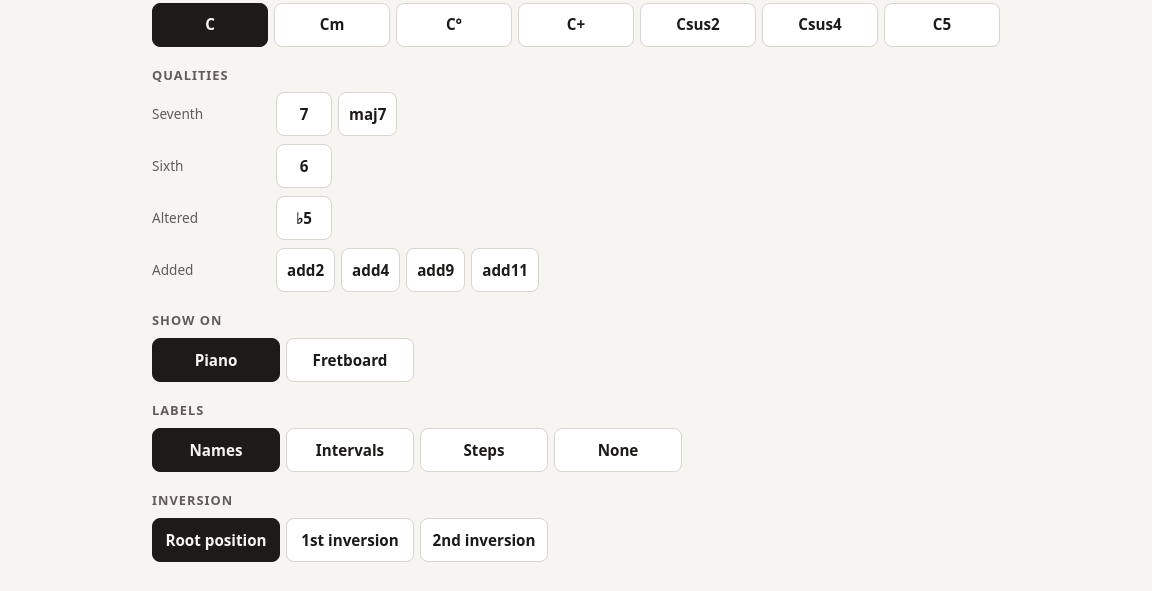
Scenario: App › stays in the same area of the neck when the chord changes
(page scrolled)
Click the radio button labelled "Fretboard" at (350, 360), box [286,338,414,382]
(page scrolled)
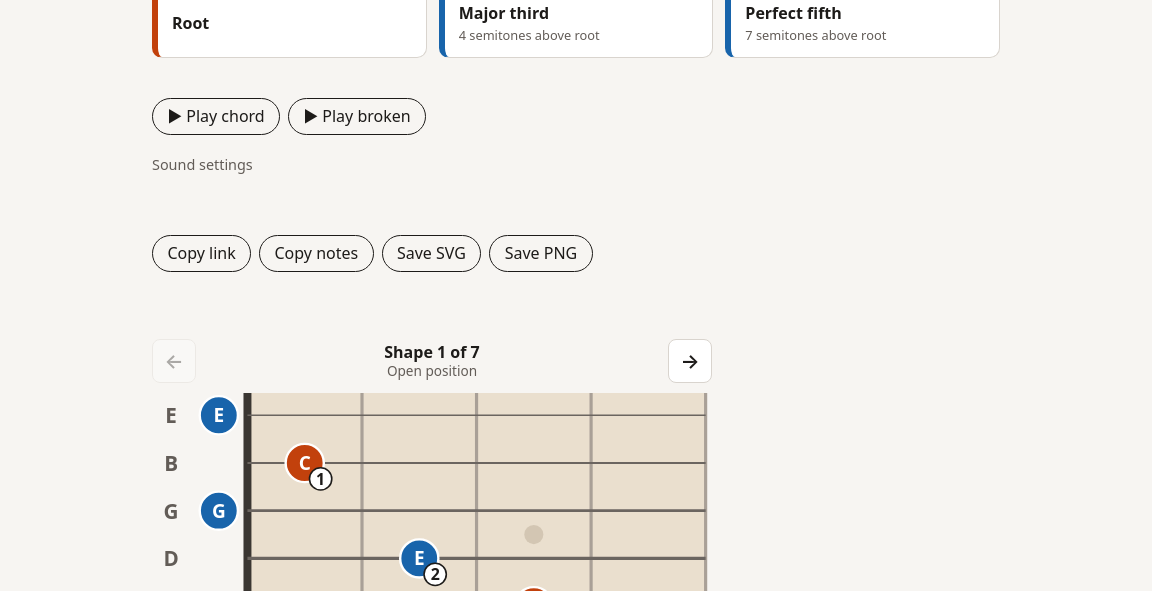
Click the button named "Next shape" at (690, 361), box [668,339,712,383]
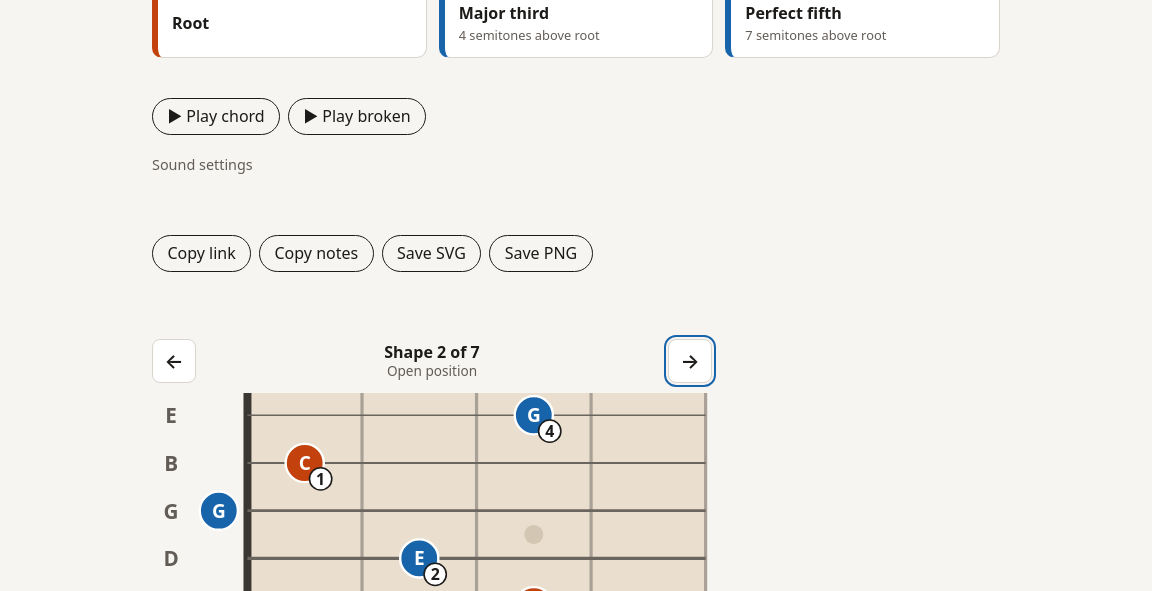
Click the button named "Next shape" at (690, 361), box [668,339,712,383]
(page scrolled)
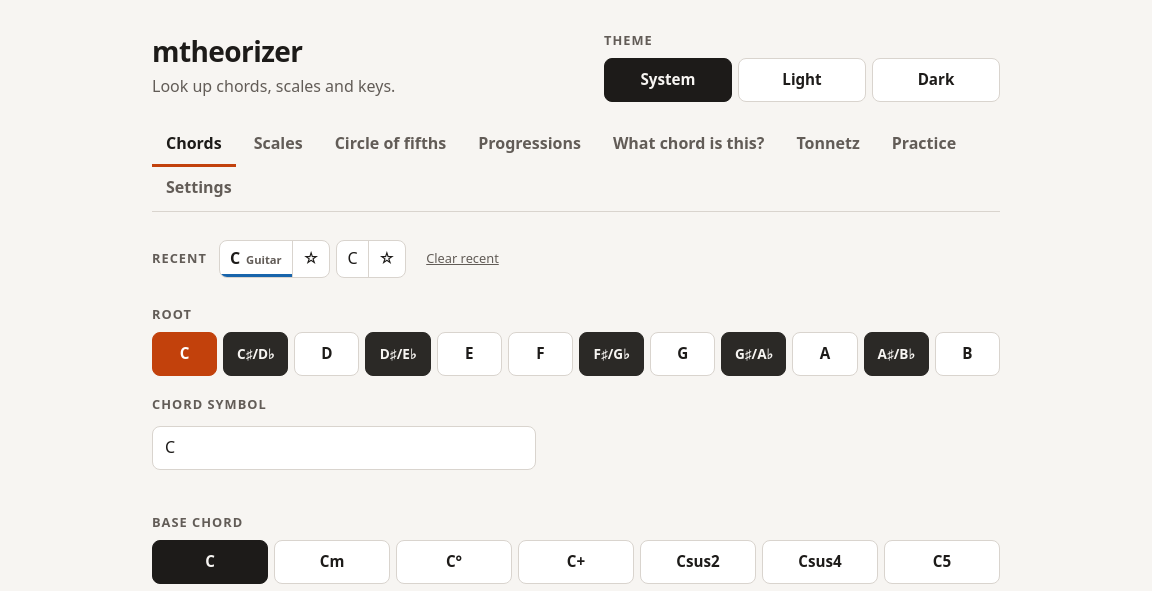
Click the radio button labelled "D" at (327, 354), box [294,332,360,376]
(page scrolled)
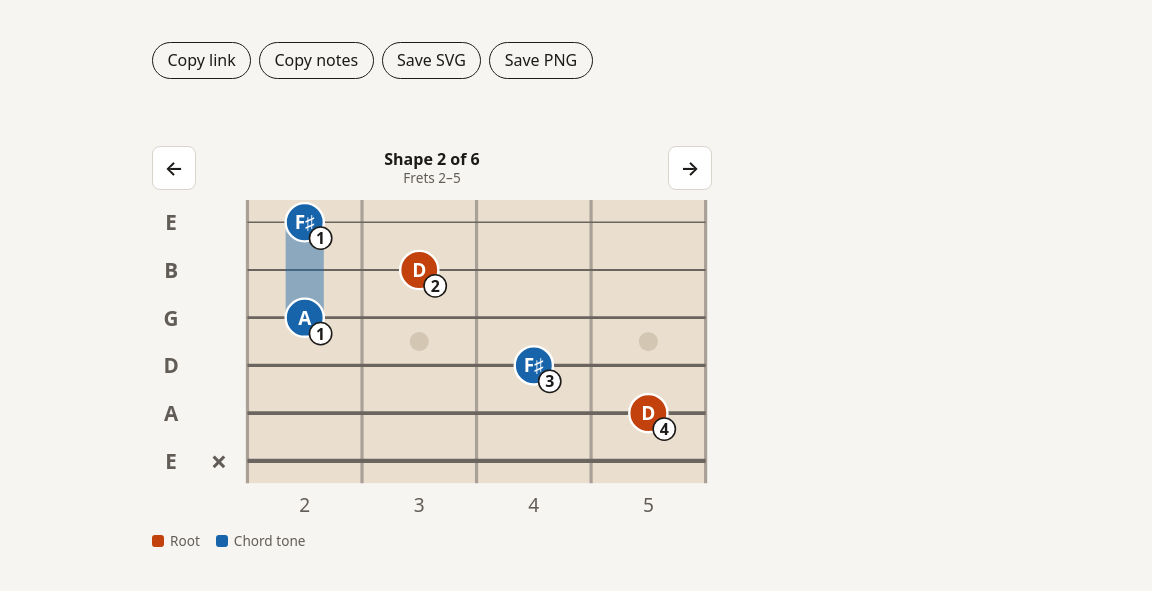
Now the picture named "Guitar neck showing D major, shape 2 of 6, frets 2–5: x 5 4 2 3 2, fingers x 4 3 1 2 1" is shown, box [152,200,712,521]
